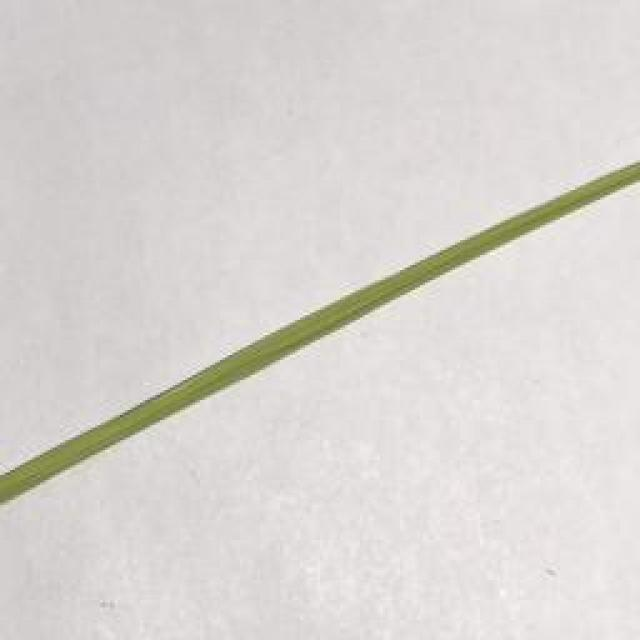Healthy-Plant: (0, 152, 640, 506)
